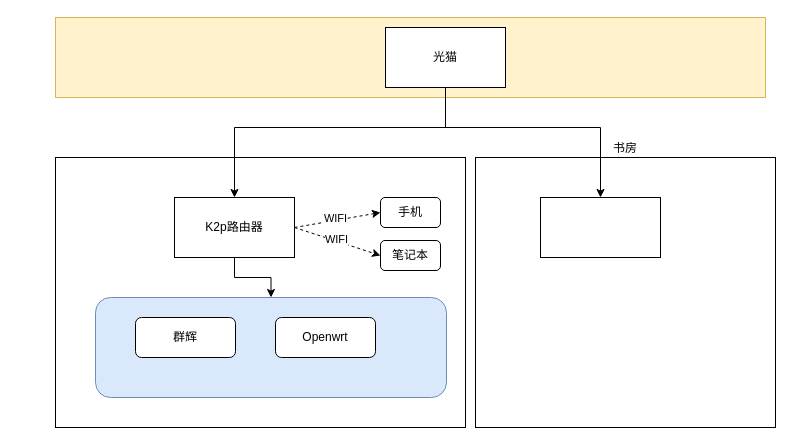
The diagram is 793 pixels wide and 445 high, and some of its shapes have lost their labels. Here are the shapes that lost their labels. From the top down, the box of each, then its label:
(54, 16, 766, 98): 弱电箱
(540, 196, 660, 258): 台式机
(54, 156, 466, 428): 客厅
(94, 296, 446, 398): 无屏 笔记本
